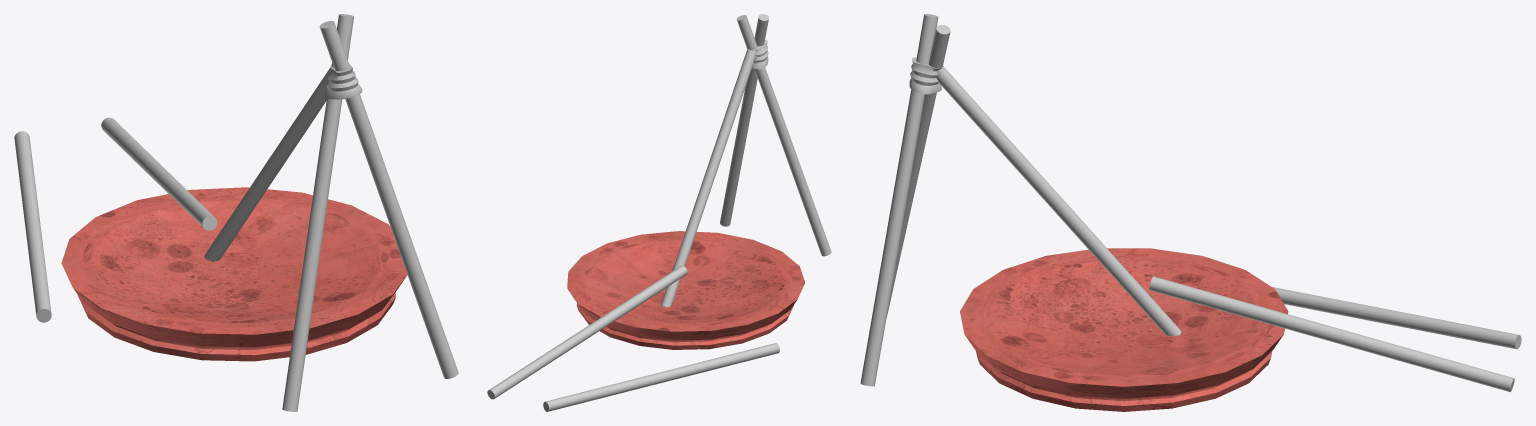
File: spitunwrappedandbroken.fbx
3 renders of one model, left to right at view 1: azimuth 30°, elevation 25°; view 2: azimuth 150°, elevation 25°; view 3: azimuth 270°, elevation 25°, orthographic. The views are drawn at different scales.
Parts seen in each view (by area): view 1: Cylinder018; view 2: Cylinder018; view 3: Cylinder018.
Part boxes in pixels (left/top/right/bottom): Cylinder018: left=14, top=14, right=458, bottom=411; Cylinder018: left=487, top=14, right=831, bottom=411; Cylinder018: left=860, top=14, right=1521, bottom=411.
Bounding box in the file's own units: 136 × 146 × 258.
